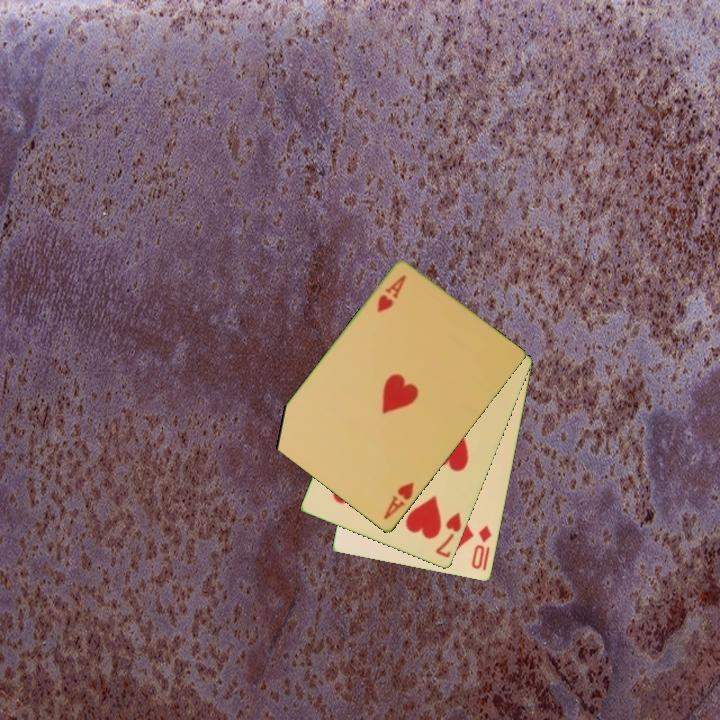10d: (468, 522, 495, 572)
7h: (432, 509, 465, 561)
Ah: (380, 479, 417, 523), (373, 272, 409, 316)
